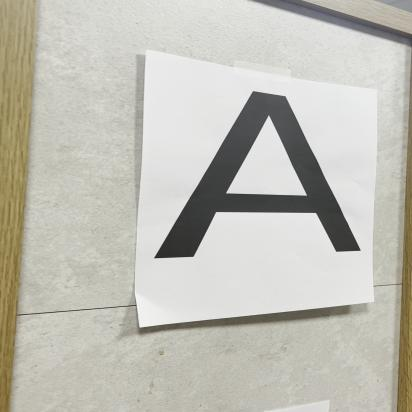seat: (163, 78, 368, 300)
